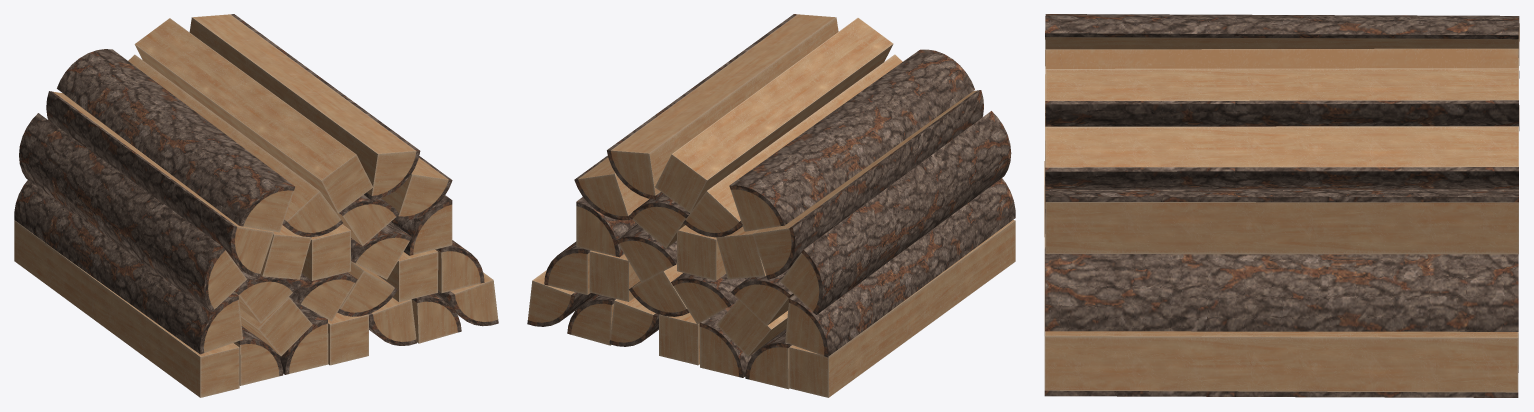
The model's file is SM_Firewood.fbx.
3 views of the same model, side by side, from view 1: azimuth 30°, elevation 25°; view 2: azimuth 150°, elevation 25°; view 3: azimuth 270°, elevation 25° (orthographic). The views are drawn at different scales.
Parts seen in each view (by area): view 1: SM_Firewood; view 2: SM_Firewood; view 3: SM_Firewood.
Part boxes in pixels (x1,y1,x2,y2): SM_Firewood: (14,14,498,397); SM_Firewood: (527,14,1015,397); SM_Firewood: (1044,14,1519,397).
Bounding box in the file's own units: 76.65 × 50.27 × 82.71.
